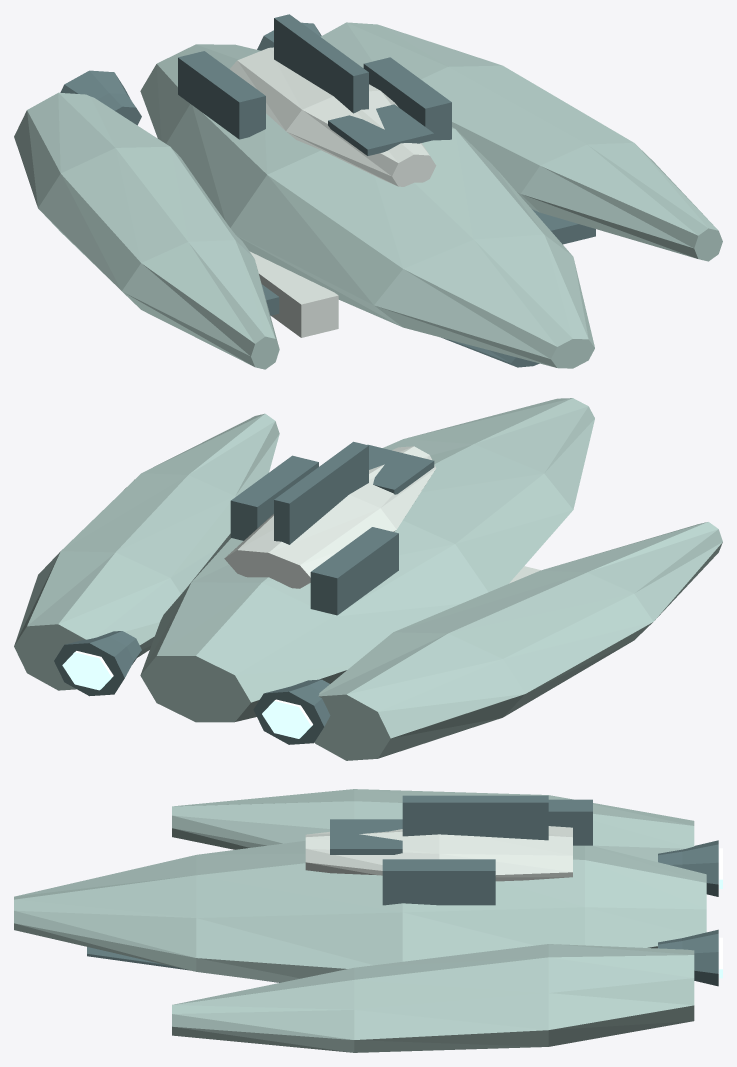
The picture shows the model from 3 angles, top to bottom: view 1: azimuth 30°, elevation 25°; view 2: azimuth 150°, elevation 25°; view 3: azimuth 270°, elevation 25°; orthographic projection. The views are drawn at different scales.
Bounding box in the file's own units: 11.98 × 4.11 × 15.07.
